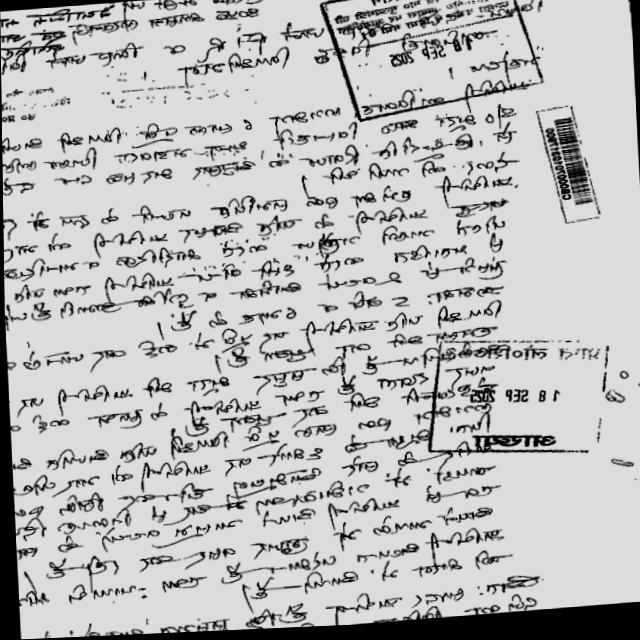antritgovtstamp: (426, 329, 614, 467)
barcode: (534, 98, 602, 231)
jantadarsan: (317, 0, 541, 123)
signnamestamp: (1, 33, 71, 126)
